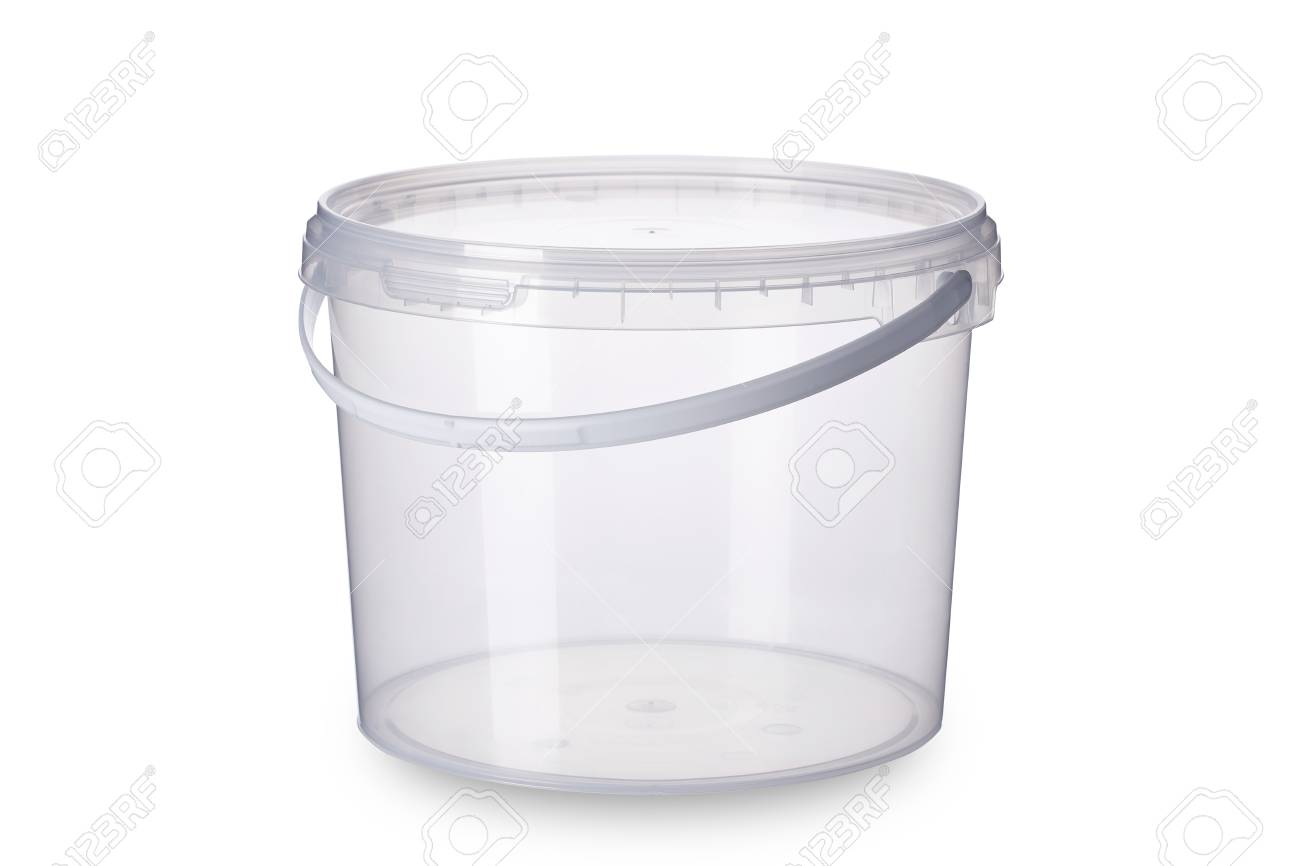PlasticBox: (283, 144, 1008, 811)
